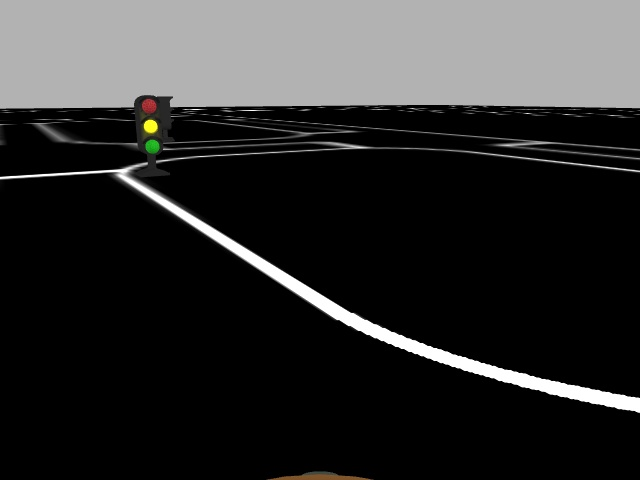yellow_light: (136, 94, 164, 158)
